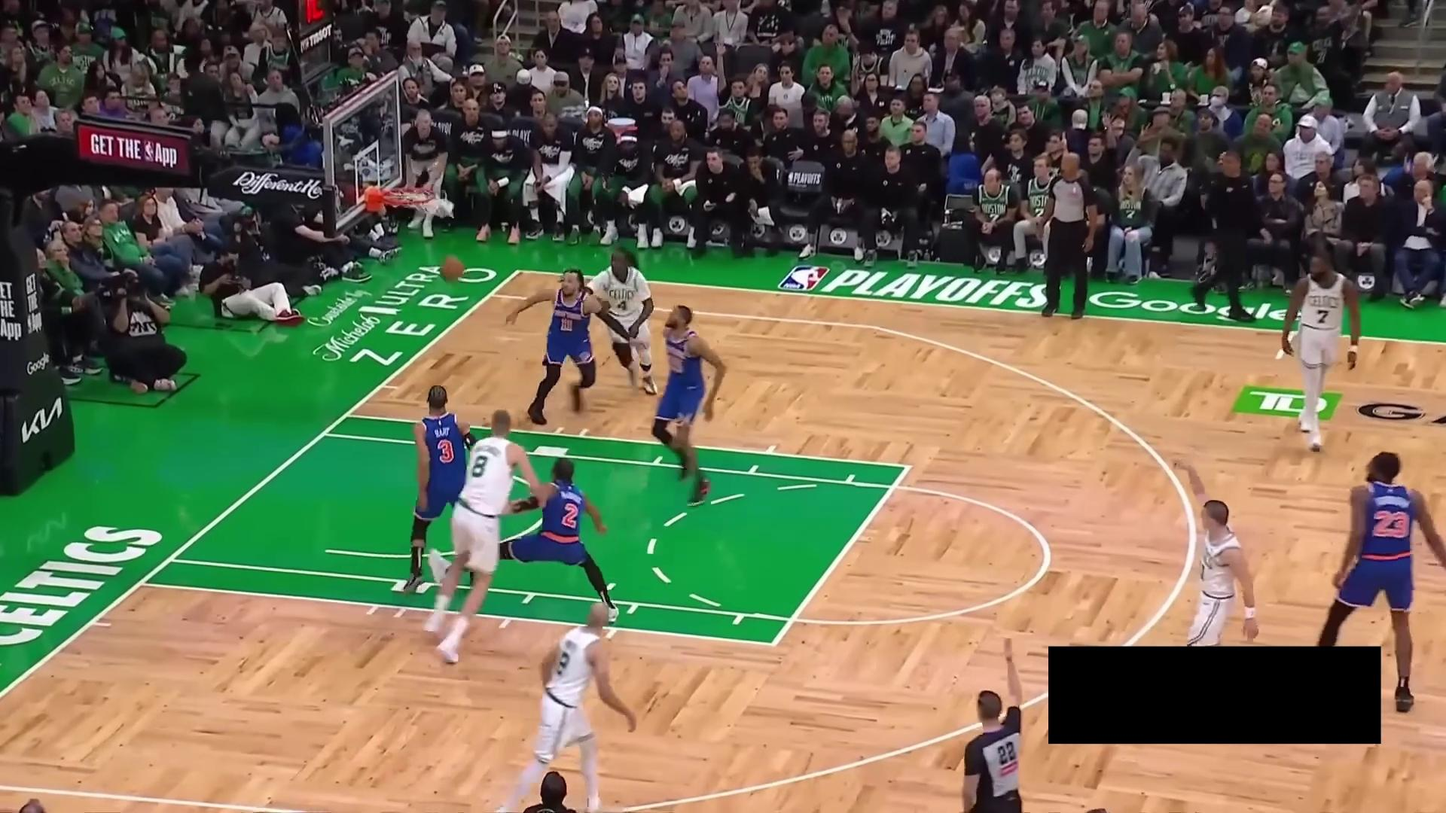ball: (440, 257, 464, 281)
number: (1373, 506, 1410, 540), (434, 439, 456, 465), (561, 503, 579, 530), (555, 648, 571, 678), (473, 455, 488, 479), (559, 315, 576, 333), (1317, 308, 1331, 324), (617, 297, 630, 313)
player: (1321, 447, 1446, 712), (422, 404, 547, 664), (428, 454, 618, 623), (492, 602, 638, 813), (505, 269, 648, 425), (1170, 457, 1262, 646), (1280, 246, 1362, 455), (402, 385, 476, 596), (651, 303, 727, 507), (584, 251, 659, 396)
referee: (954, 633, 1026, 813), (1037, 148, 1100, 319)
rim: (380, 186, 436, 206)
